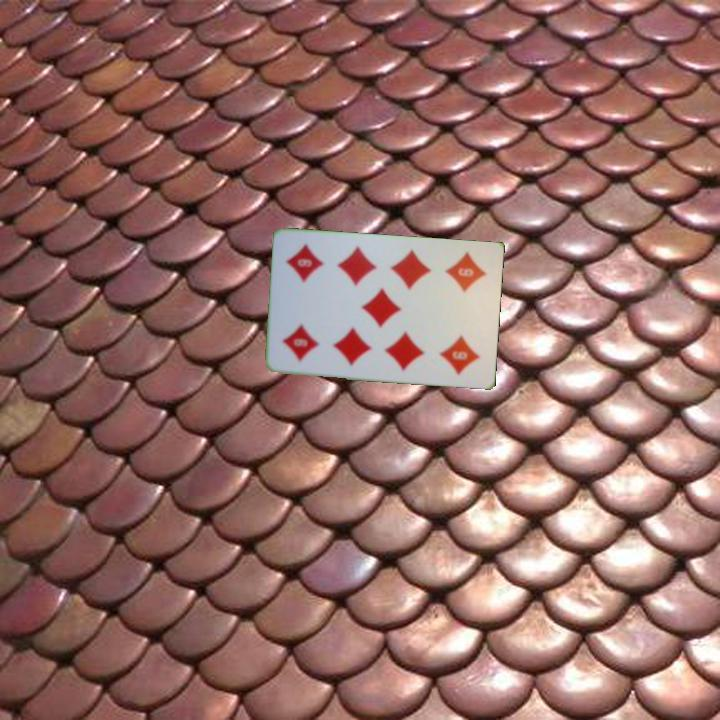d_9.png: (274, 298, 336, 369), (431, 248, 493, 318)
